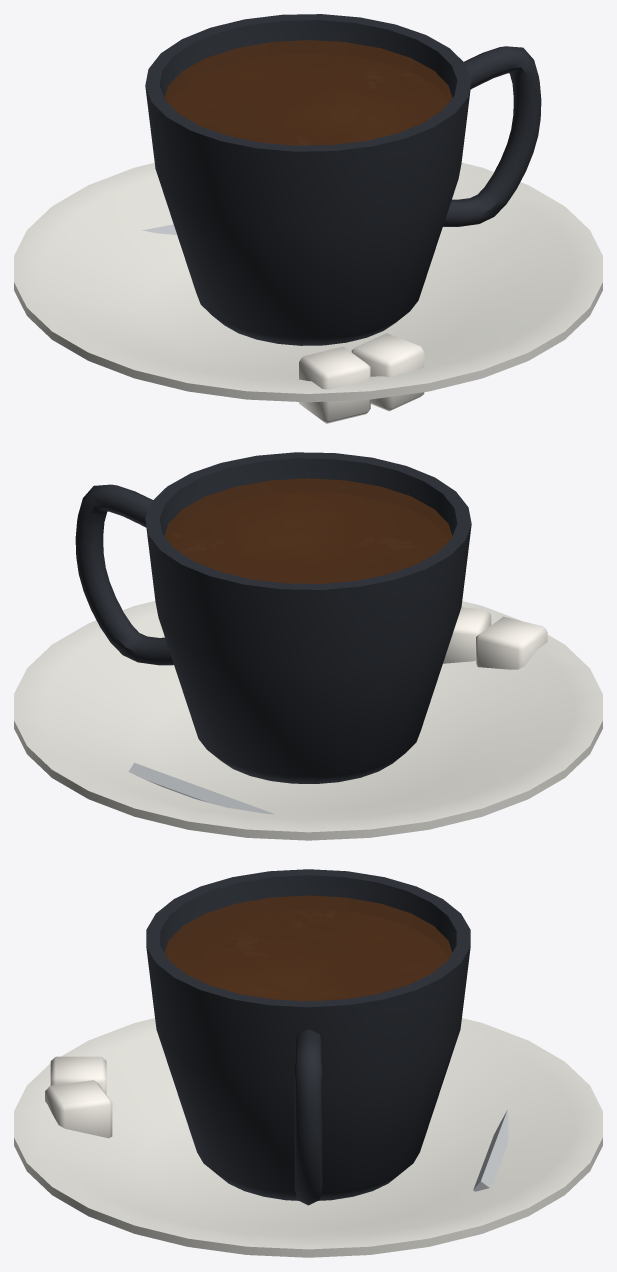
The model's file is drink_espresso_cup_sugar.glb.
3 views of the same model, one above another, from view 1: azimuth 30°, elevation 25°; view 2: azimuth 150°, elevation 25°; view 3: azimuth 270°, elevation 25° (orthographic).
Visible parts, largest first — view 1: drink_espresso_cup_sugar; view 2: drink_espresso_cup_sugar; view 3: drink_espresso_cup_sugar.
Boxes of the visible parts, x1=… form: drink_espresso_cup_sugar: x1=14, y1=14, x2=602, y2=423; drink_espresso_cup_sugar: x1=14, y1=452, x2=602, y2=840; drink_espresso_cup_sugar: x1=14, y1=869, x2=602, y2=1257.
Size of the model in its own units: 0.116 by 0.054 by 0.1154.
